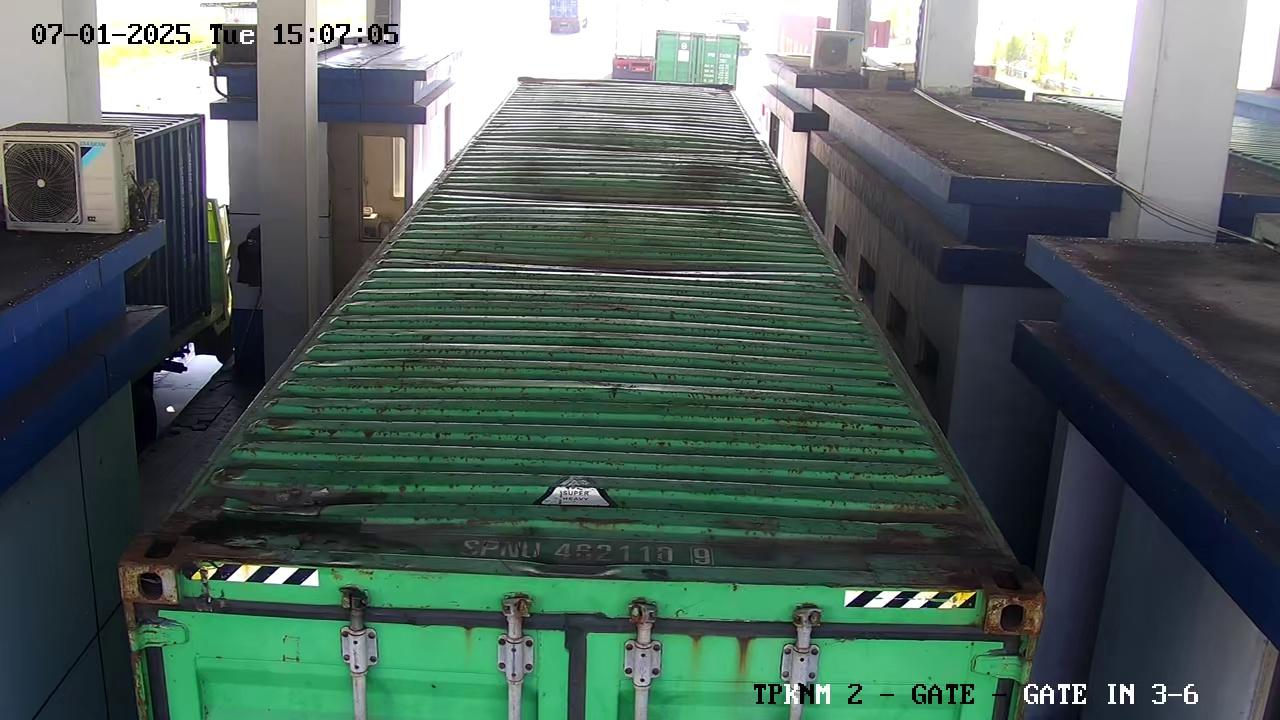Container_ID: (432, 514, 748, 604)
